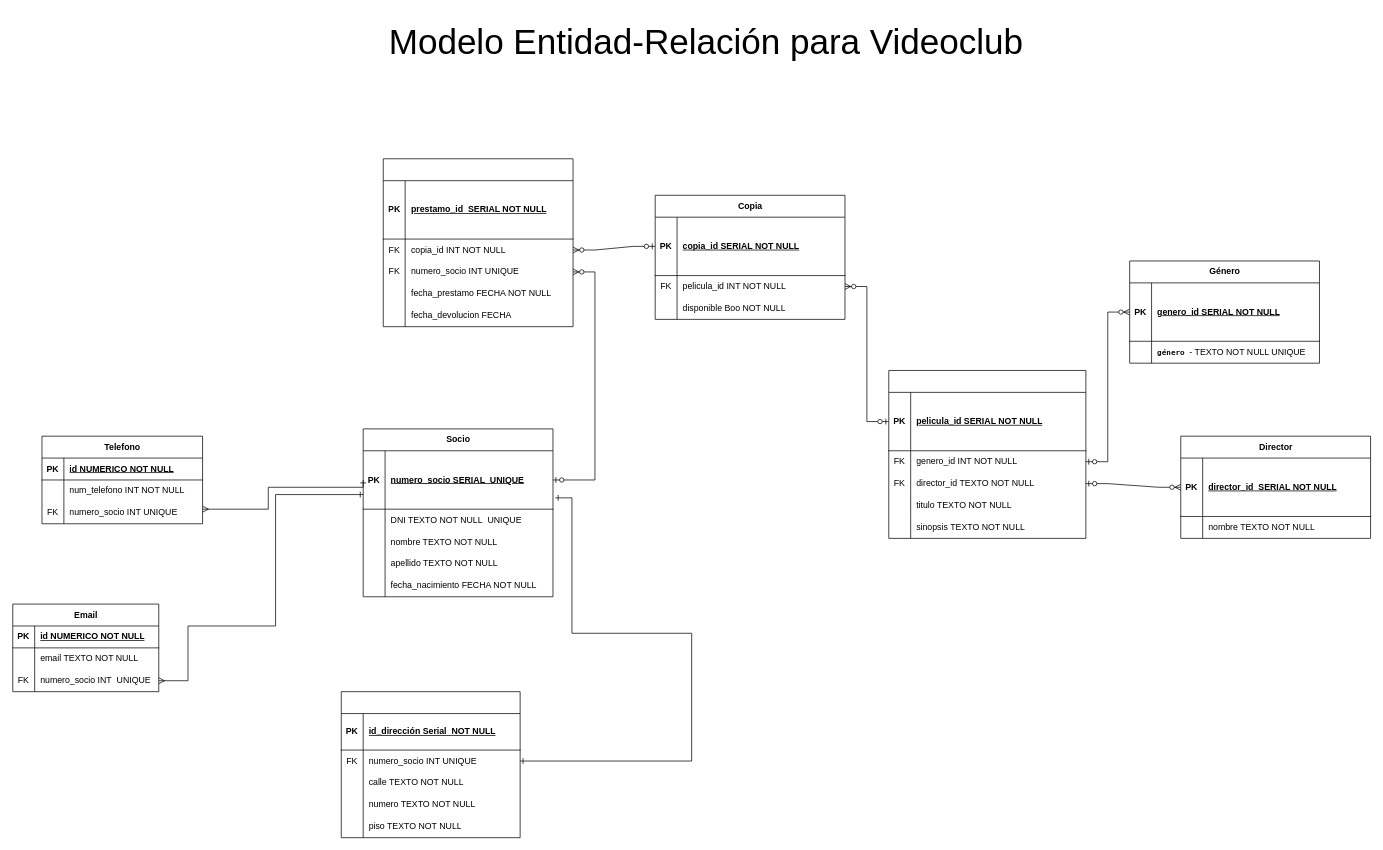
Image size: 1383x850. Some labels were removed from this diagram. The shapes that lost their labels are listed below. From the top down, each one's box as (x1, y1, x2, y2) in pixels, then its label:
(383, 158, 573, 327): Préstamo
(888, 370, 1086, 538): Película
(341, 691, 520, 838): Direccion
